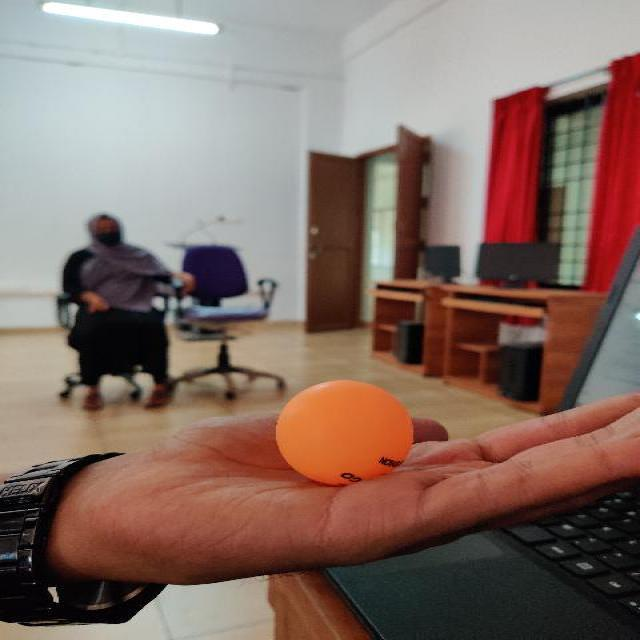oball: (274, 379, 414, 488)
